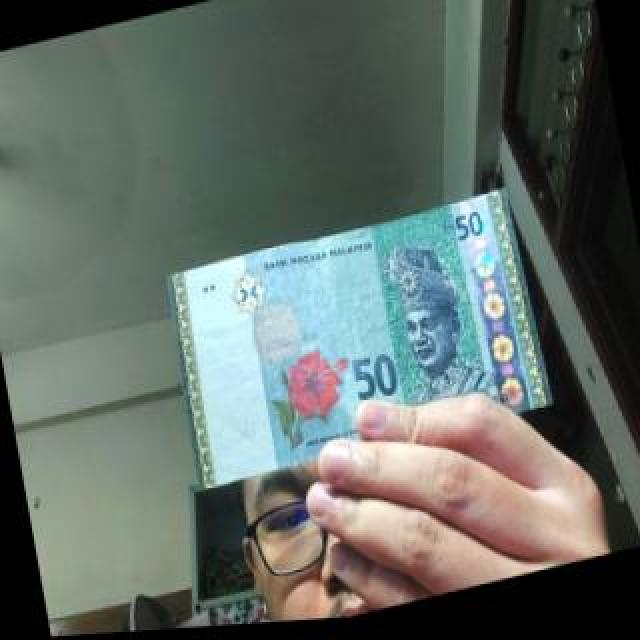50 Ringgit: (162, 192, 554, 494)
